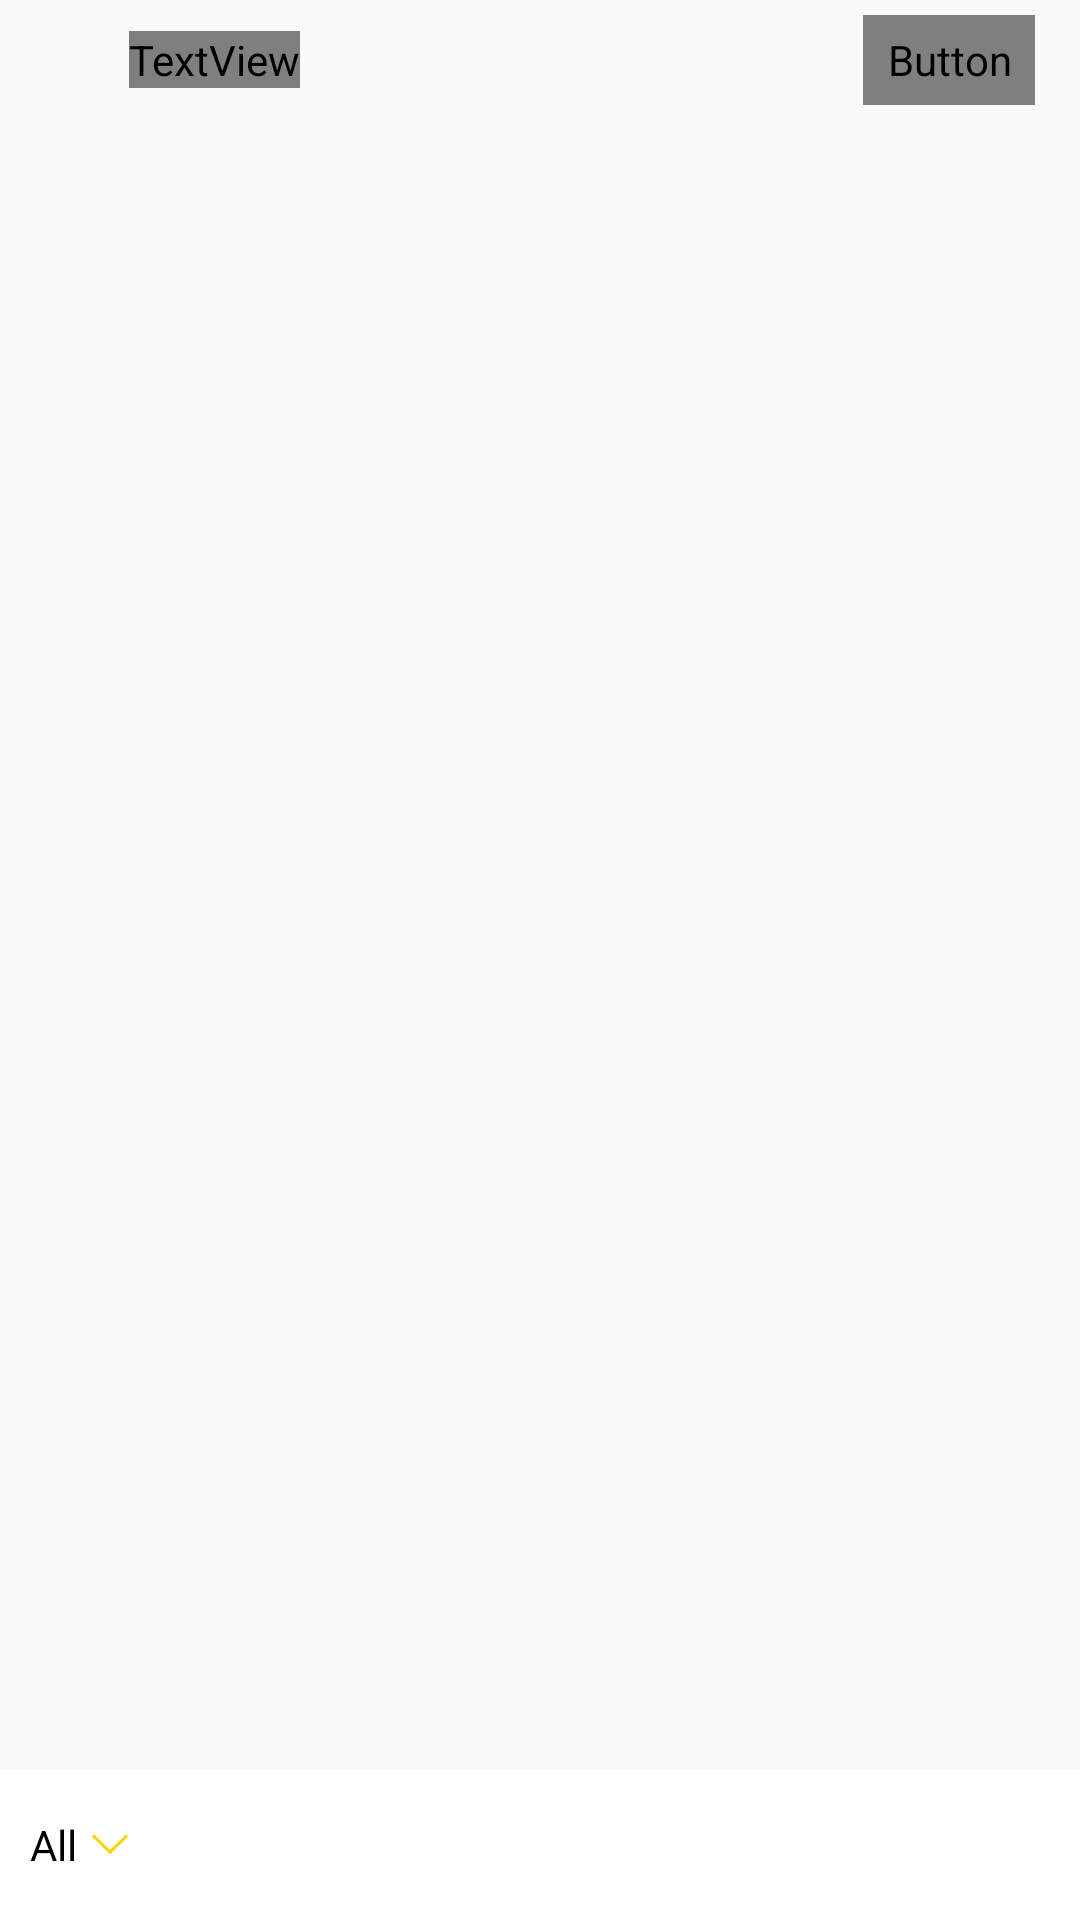

Icon bounding boxes for this 1080x1920 phone screenshot, format bbox(x1, y1, x2, y2):
open: bbox(92, 1834, 128, 1854)
